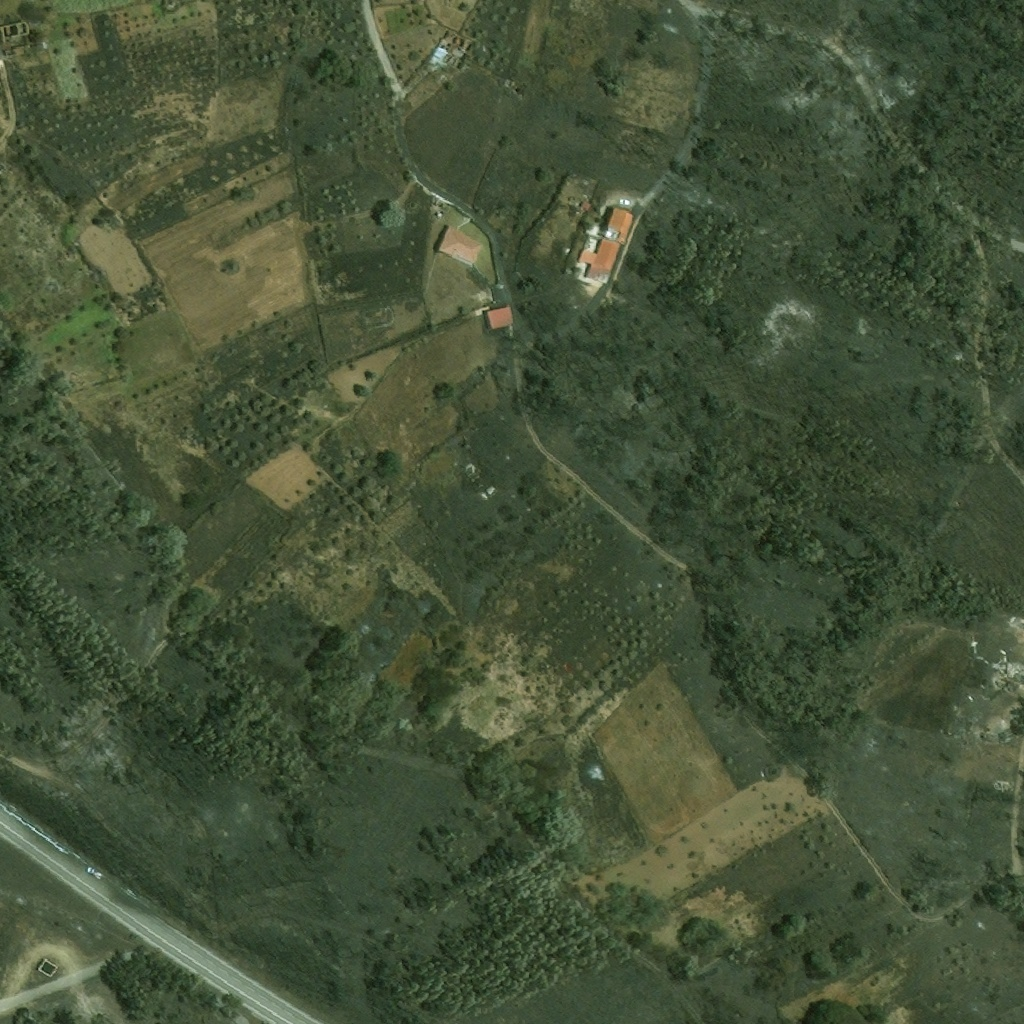0 no-damage: (434, 224, 484, 268), (604, 206, 638, 245), (483, 305, 514, 330), (37, 958, 58, 978)
1 minor-damage: (577, 236, 622, 286)
3 destroyed: (360, 307, 395, 330), (438, 30, 473, 53), (1, 42, 31, 56), (444, 53, 466, 71), (1007, 664, 1023, 684), (433, 44, 449, 61), (1005, 711, 1017, 716), (1016, 712, 1021, 721), (998, 670, 1004, 676), (960, 717, 965, 723)
